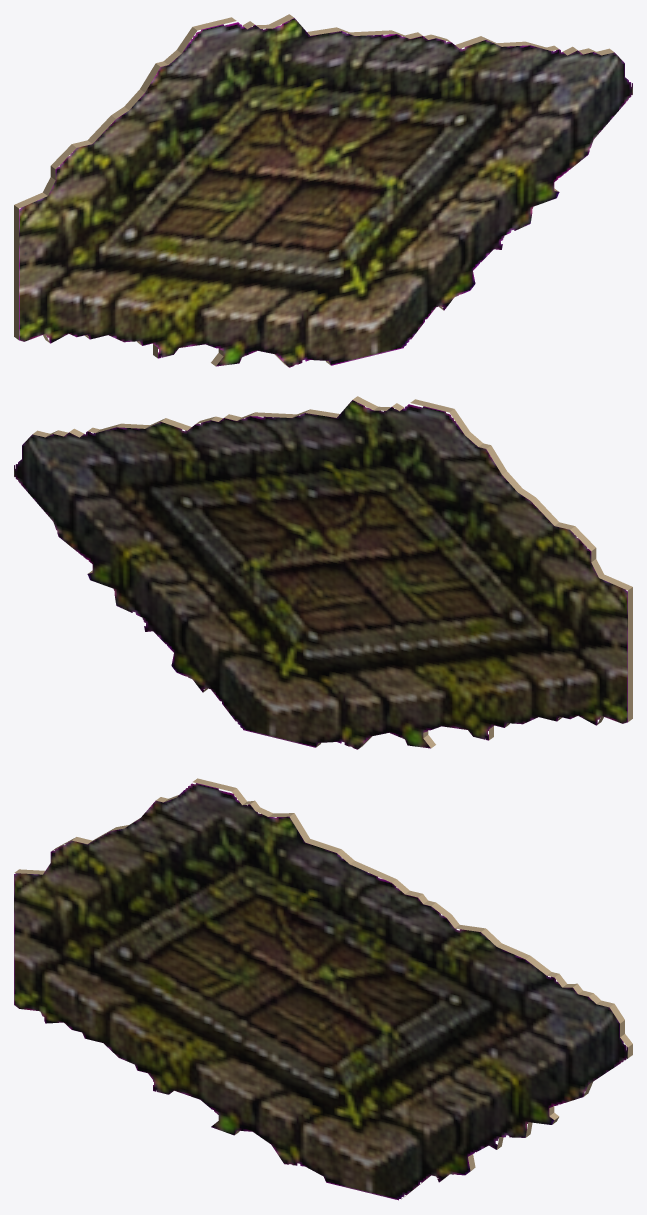
File: fantasy-obj-trap-hidden.glb
The picture shows the model from 3 angles, top to bottom: view 1: azimuth 30°, elevation 25°; view 2: azimuth 150°, elevation 25°; view 3: azimuth 330°, elevation 25°; orthographic projection.
Parts seen in each view (by area): view 1: painted-faces, side-shell; view 2: painted-faces, side-shell; view 3: painted-faces, side-shell.
Part boxes in pixels (bbox=[...]): painted-faces: bbox=[19, 18, 632, 367]; side-shell: bbox=[14, 14, 613, 366]; painted-faces: bbox=[14, 400, 627, 749]; side-shell: bbox=[33, 396, 632, 748]; painted-faces: bbox=[14, 783, 627, 1200]; side-shell: bbox=[14, 778, 632, 1199].
Bounding box in the file's own units: 1.75 × 1 × 0.025.
Materials: 2 (1 with a texture image).
